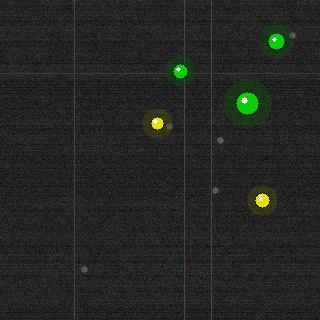green_normal: (234, 90, 260, 116), (266, 31, 286, 51), (171, 62, 189, 80)
yellow_warning: (253, 191, 271, 209), (149, 115, 165, 131)
